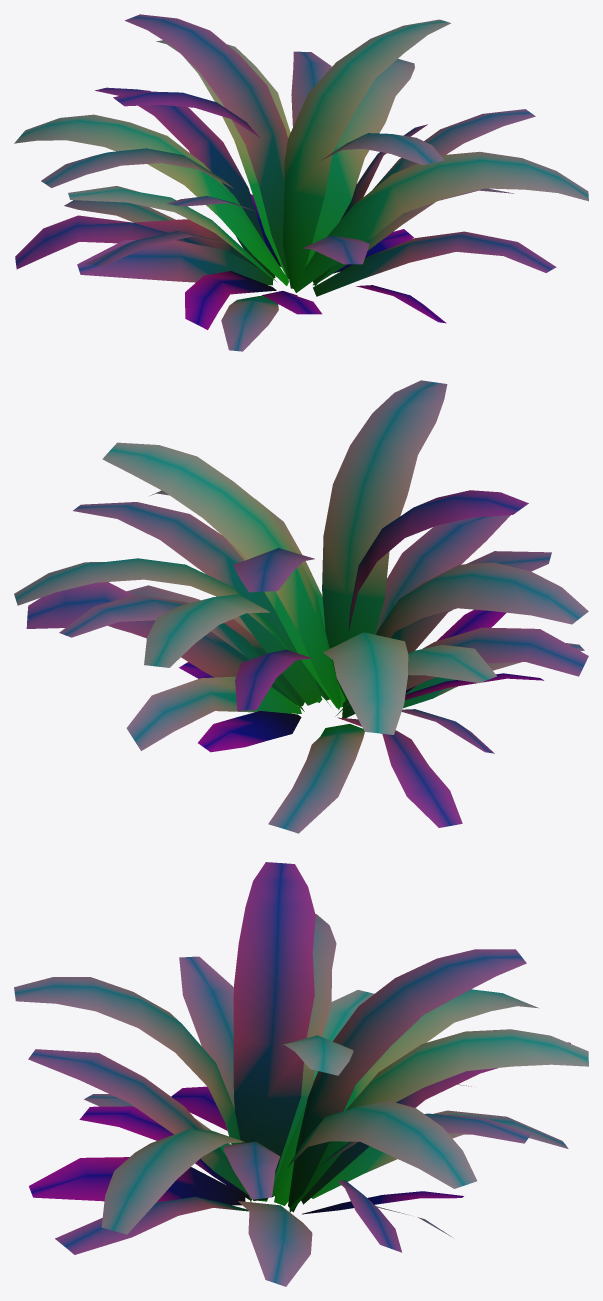
The picture shows the model from 3 angles, top to bottom: view 1: azimuth 30°, elevation 25°; view 2: azimuth 150°, elevation 25°; view 3: azimuth 270°, elevation 25°; orthographic projection. The views are drawn at different scales.
Parts seen in each view (by area): view 1: Grass; view 2: Grass; view 3: Grass.
Part boxes in pixels (bbox=[...]): Grass: bbox=[14, 14, 588, 351]; Grass: bbox=[14, 380, 588, 833]; Grass: bbox=[14, 862, 588, 1286].
Bounding box in the file's own units: 3.04 × 1.4 × 2.89.
